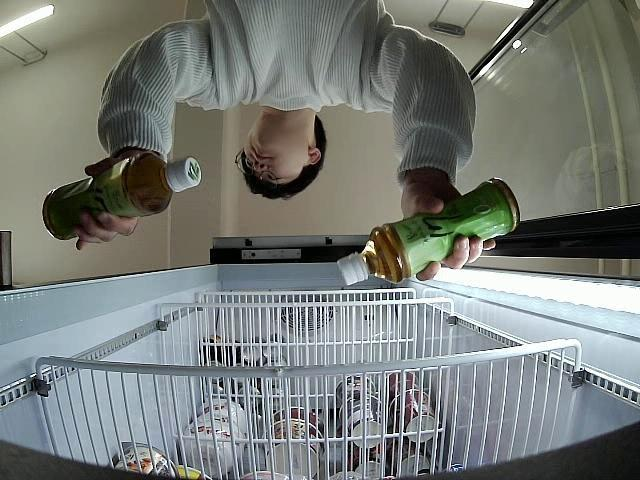19_17cha: (334, 177, 520, 287), (42, 155, 202, 241)
